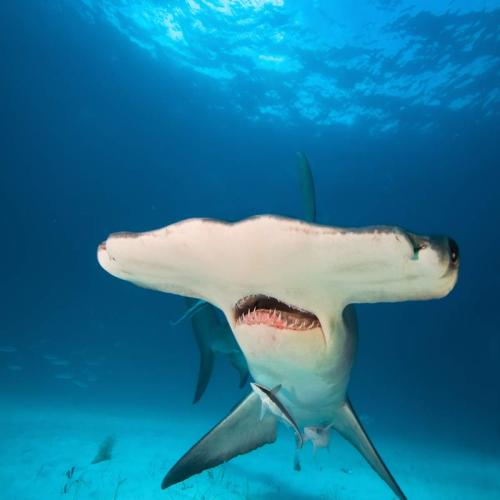shark-endangered: (96, 148, 459, 500)
